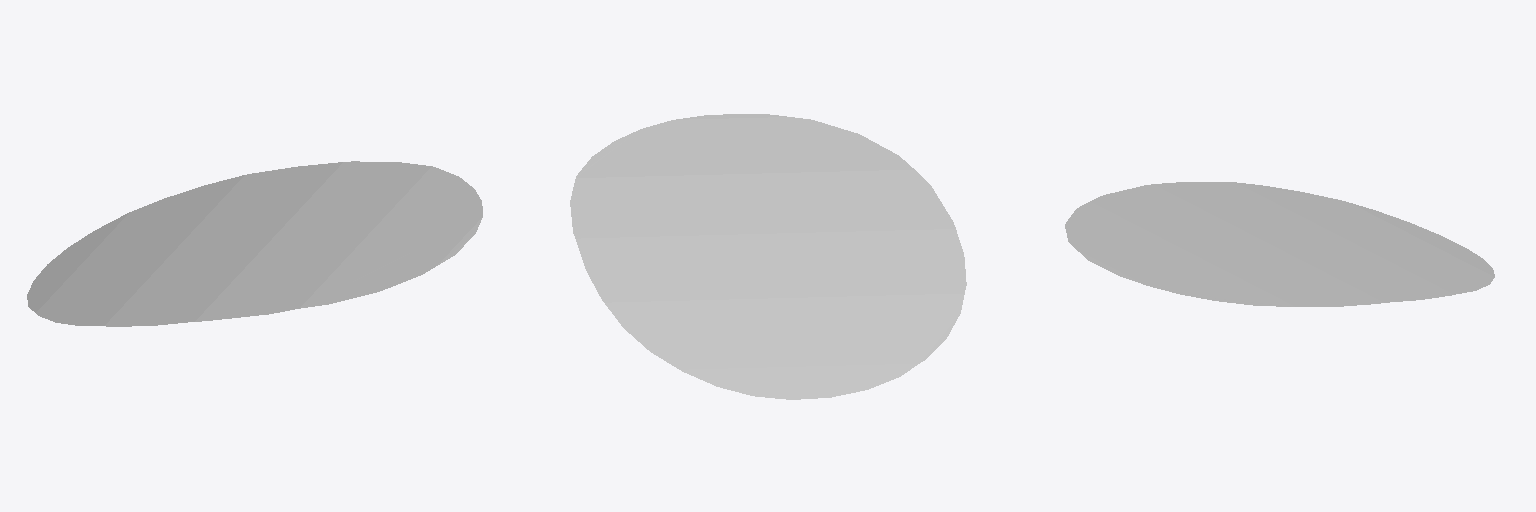
File: original-203.obj
The picture shows the model from 3 angles: view 1: azimuth 30°, elevation 25°; view 2: azimuth 150°, elevation 25°; view 3: azimuth 270°, elevation 25°; orthographic projection.
Parts seen in each view (by area): view 1: #ID1212; view 2: #ID1212; view 3: #ID1212.
Boxes of the visible parts, x1=… form: #ID1212: x1=27, y1=161, x2=482, y2=326; #ID1212: x1=570, y1=114, x2=966, y2=399; #ID1212: x1=1065, y1=182, x2=1494, y2=306.
Size of the model in its own units: 0.0152 by 0.0037 by 0.0149.